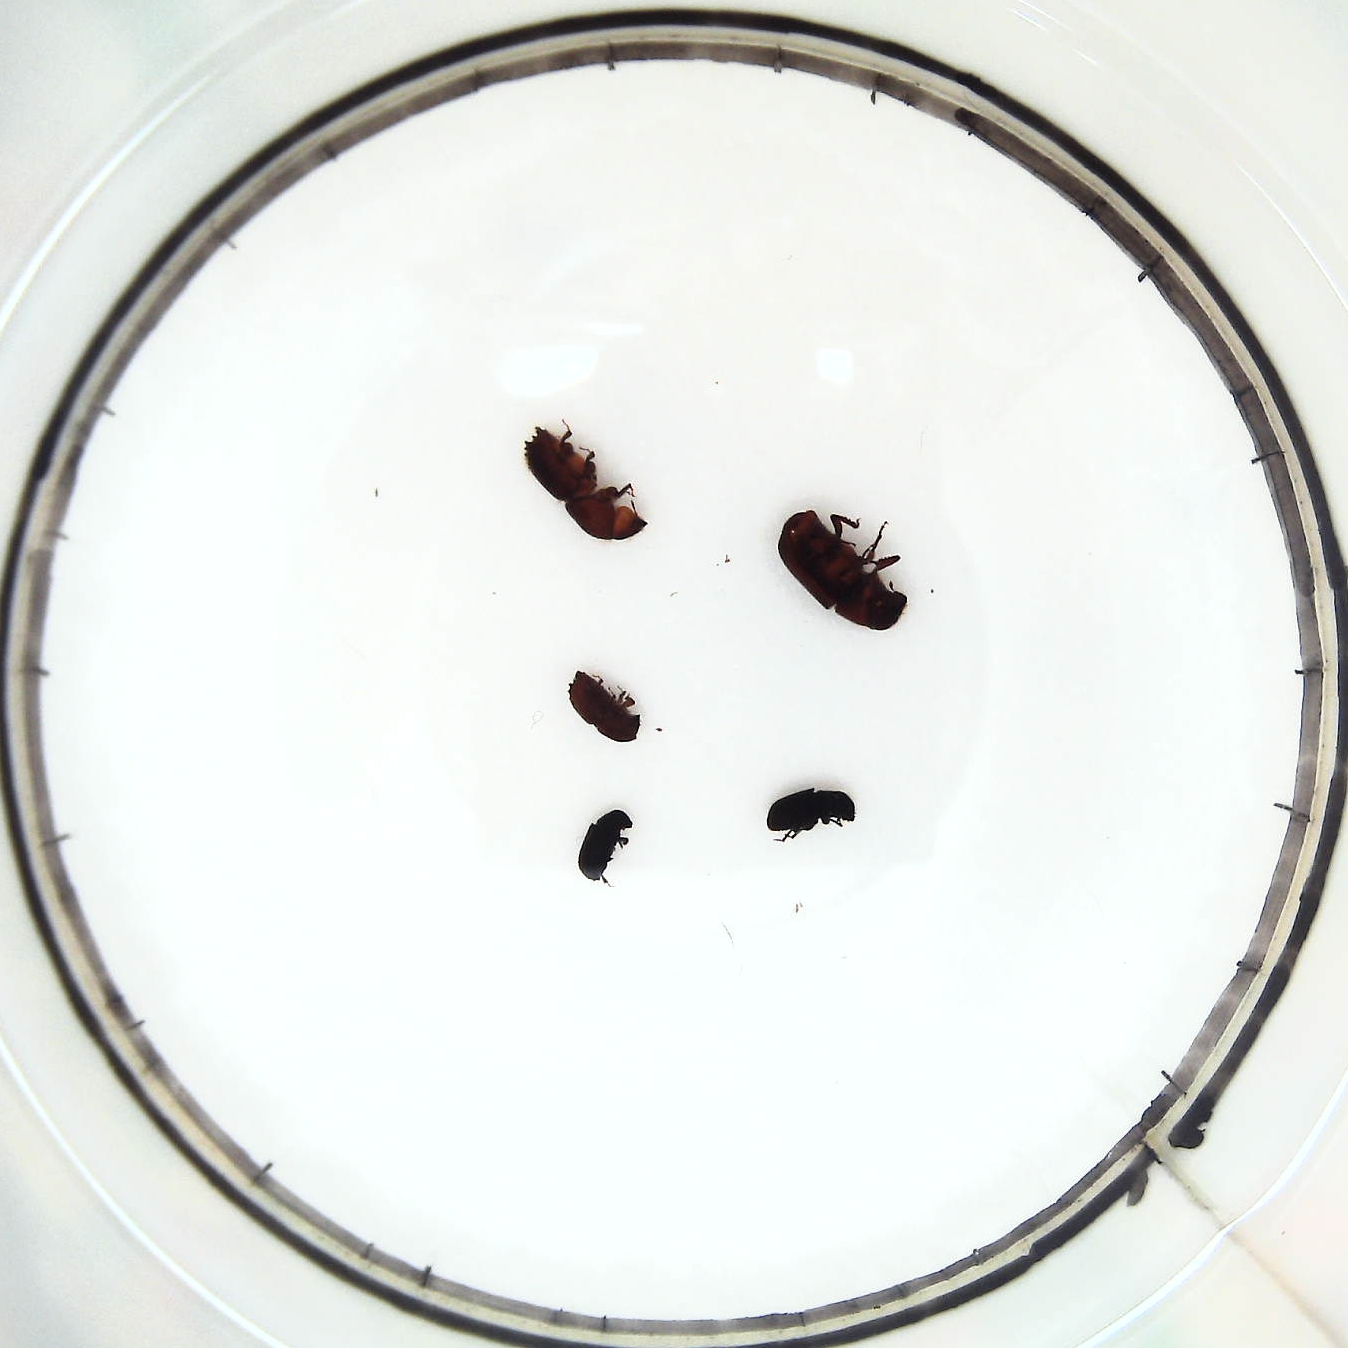Boerner: (523, 417, 648, 549)
Leconte: (776, 500, 913, 634)
armandi: (760, 785, 860, 846)
coleoptera: (575, 805, 636, 888)
linnaeus: (564, 667, 651, 746)
